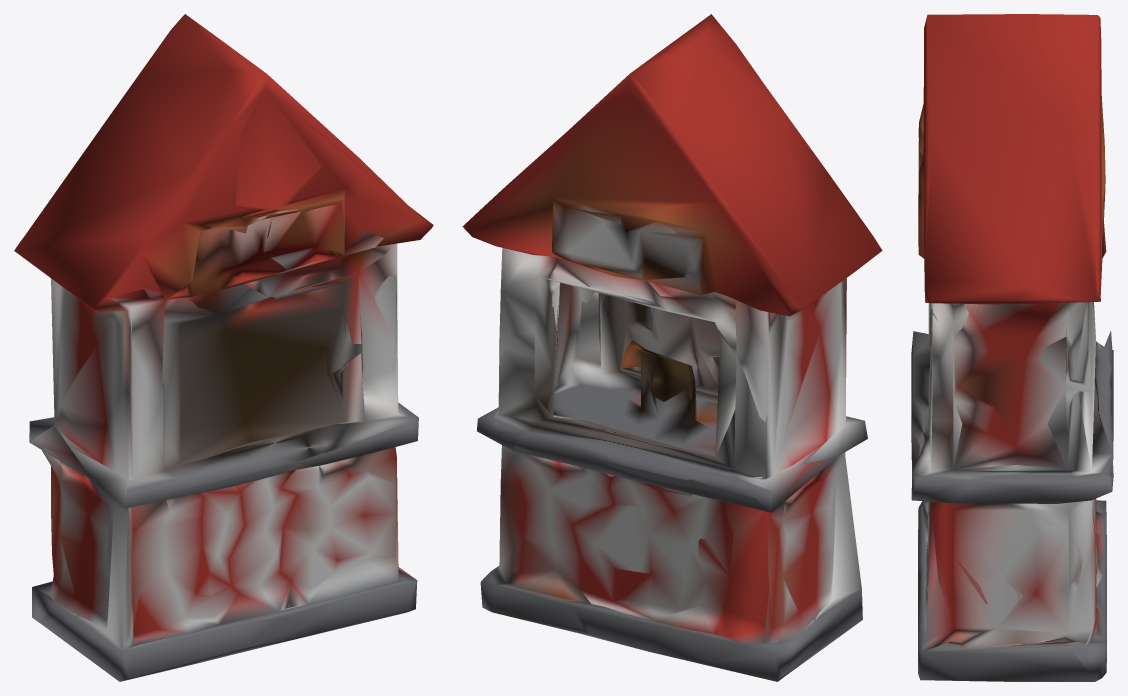
Rendered from gen3d-ticket-booth-lod0.glb.
The picture shows the model from 3 angles, left to right: view 1: azimuth 30°, elevation 25°; view 2: azimuth 150°, elevation 25°; view 3: azimuth 270°, elevation 25°; orthographic projection. The views are drawn at different scales.
Visible parts, largest first — view 1: part_0; view 2: part_0; view 3: part_0.
Part boxes in pixels (bbox=[...]): part_0: bbox=[14, 14, 433, 681]; part_0: bbox=[462, 14, 882, 681]; part_0: bbox=[911, 14, 1113, 681].
Size of the model in its own units: 0.6259 by 1 by 0.3084.
